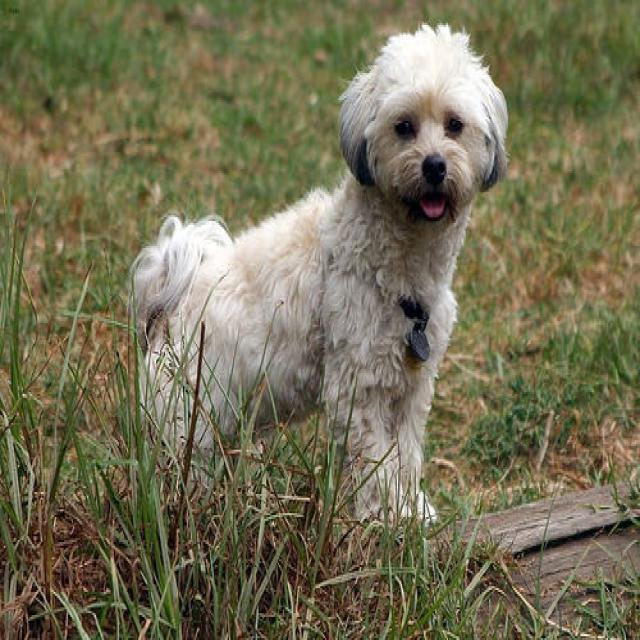dog-havanese: (120, 13, 517, 534)
